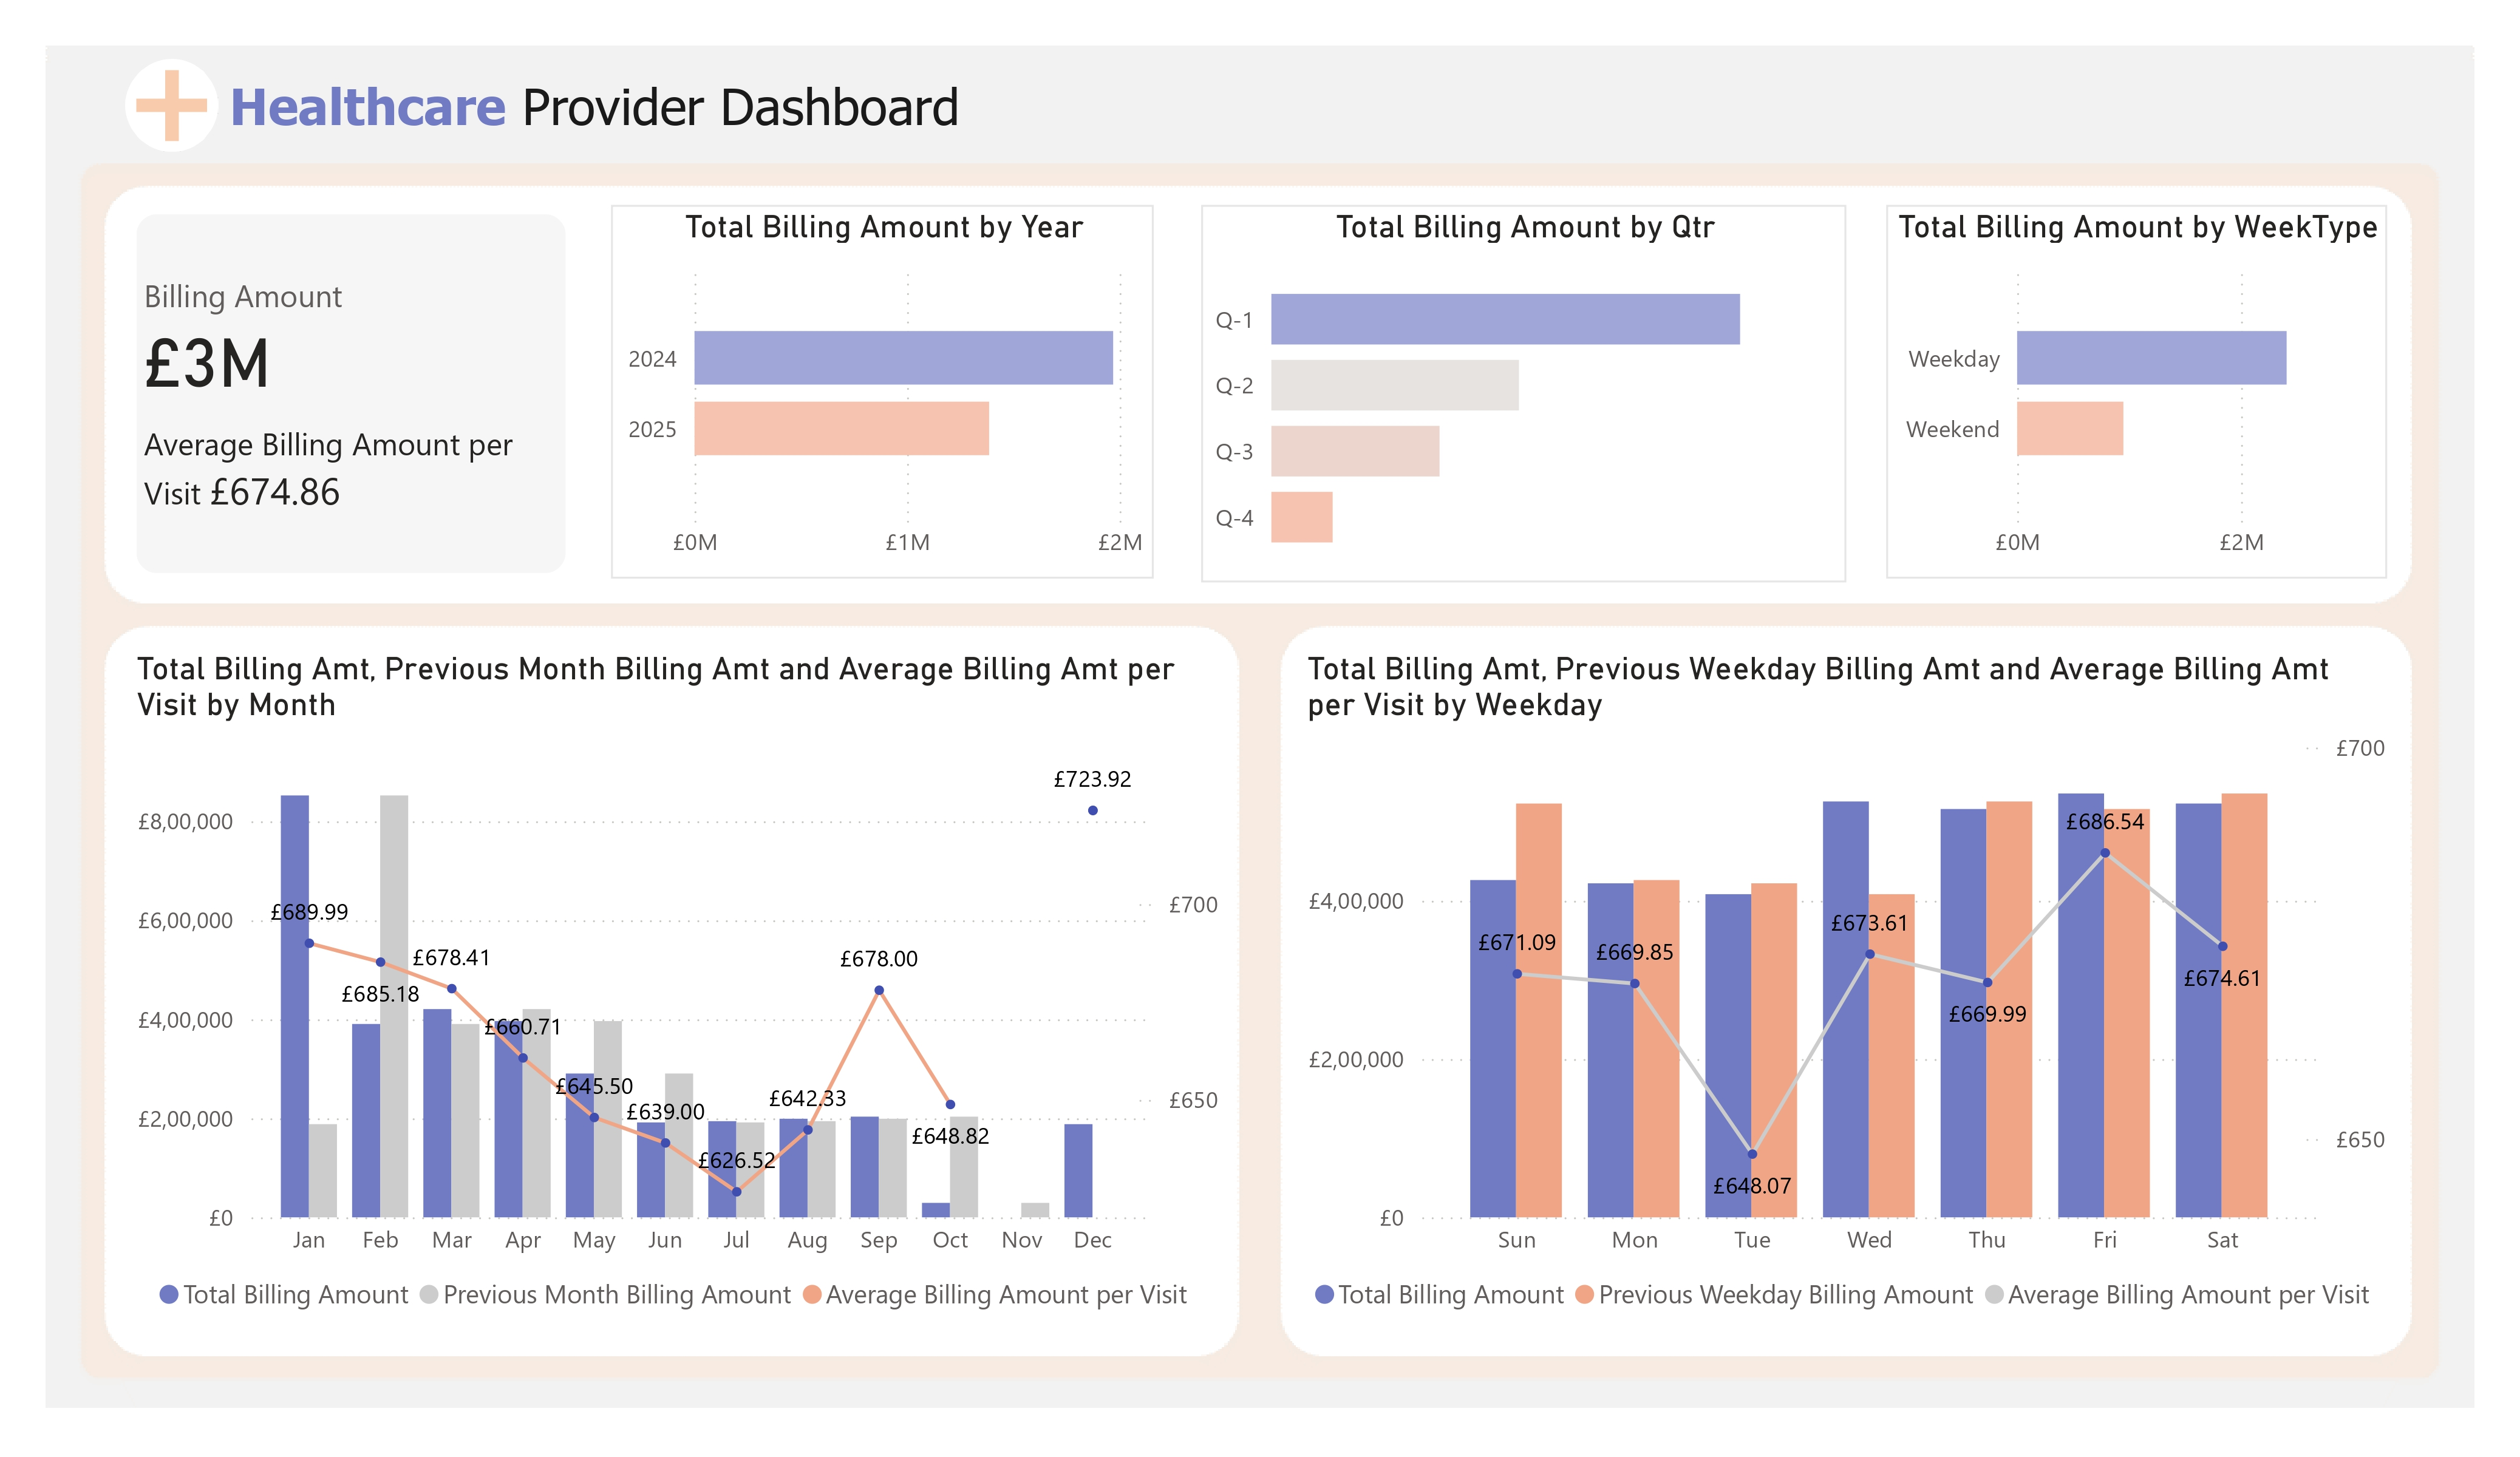

The page's visual inventory and layout, read from the dashboard file:
{"tool":"powerbi","page":{"name":"Trend Page","canvas":[1280,720],"ordinal":1},"visuals":[{"type":"lineClusteredColumnComboChart","title":"Total Billing Amt, Previous Month Billing Amt and Average Billing Amt per Visit by Month","fields":{"Category":["DateTable.Month"],"Y":["DAX Calculation.Total Billing Amount","DAX Calculation.Previous Month Billing Amount"],"Y2":["DAX Calculation.Average Billing Amount per Visit"]},"box":[43.2,318.1,579.9,358.7],"z":0},{"type":"lineClusteredColumnComboChart","title":"Total Billing Amt, Previous Weekday Billing Amt and Average Billing Amt per Visit by Weekday","fields":{"Y":["DAX Calculation.Total Billing Amount","DAX Calculation.Previous Weekday Billing Amount"],"Y2":["DAX Calculation.Average Billing Amount per Visit"],"Category":["DateTable.Weekday"]},"box":[659.8,318.1,578.6,358.7],"z":1000},{"type":"clusteredBarChart","fields":{"Y":["DAX Calculation.Total Billing Amount"],"Category":["DateTable.Year"]},"box":[298.5,83.8,285.4,197.7],"z":2000},{"type":"clusteredBarChart","fields":{"Y":["DAX Calculation.Total Billing Amount"],"Category":["DateTable.Qtr"]},"box":[608.7,83.8,340.4,199],"z":3000},{"type":"clusteredBarChart","fields":{"Y":["DAX Calculation.Total Billing Amount"],"Category":["DateTable.WeekType"]},"box":[970,83.8,264.4,197.7],"z":4000},{"type":"cardVisual","fields":{"Data":["DAX Calculation.Total Billing Amount"]},"box":[43.2,83.8,235.6,199],"z":5000},{"type":"textbox","box":[92.2,10.1,403.2,51.8],"z":6000},{"type":"image","box":[37.4,1.4,59,60.5],"z":7000}]}

Visuals, with their boxes on the page's 1280x720 design canvas (x1, y1, x2, y2). These are canvas units, not pixel positions in the 2520x1457 screenshot, which may show the page scaled, cropped or inside an application window:
"Total Billing Amt, Previous Month Billing Amt and Average Billing Amt per Visit by Month" lineClusteredColumnComboChart: <box>43,318,623,677</box>
"Total Billing Amt, Previous Weekday Billing Amt and Average Billing Amt per Visit by Weekday" lineClusteredColumnComboChart: <box>660,318,1238,677</box>
clusteredBarChart - DAX Calculation.Total Billing Amount x DateTable.Year: <box>298,84,584,282</box>
clusteredBarChart - DAX Calculation.Total Billing Amount x DateTable.Qtr: <box>609,84,949,283</box>
clusteredBarChart - DAX Calculation.Total Billing Amount x DateTable.WeekType: <box>970,84,1234,282</box>
cardVisual - DAX Calculation.Total Billing Amount: <box>43,84,279,283</box>
textbox: <box>92,10,495,62</box>
image: <box>37,1,96,62</box>
